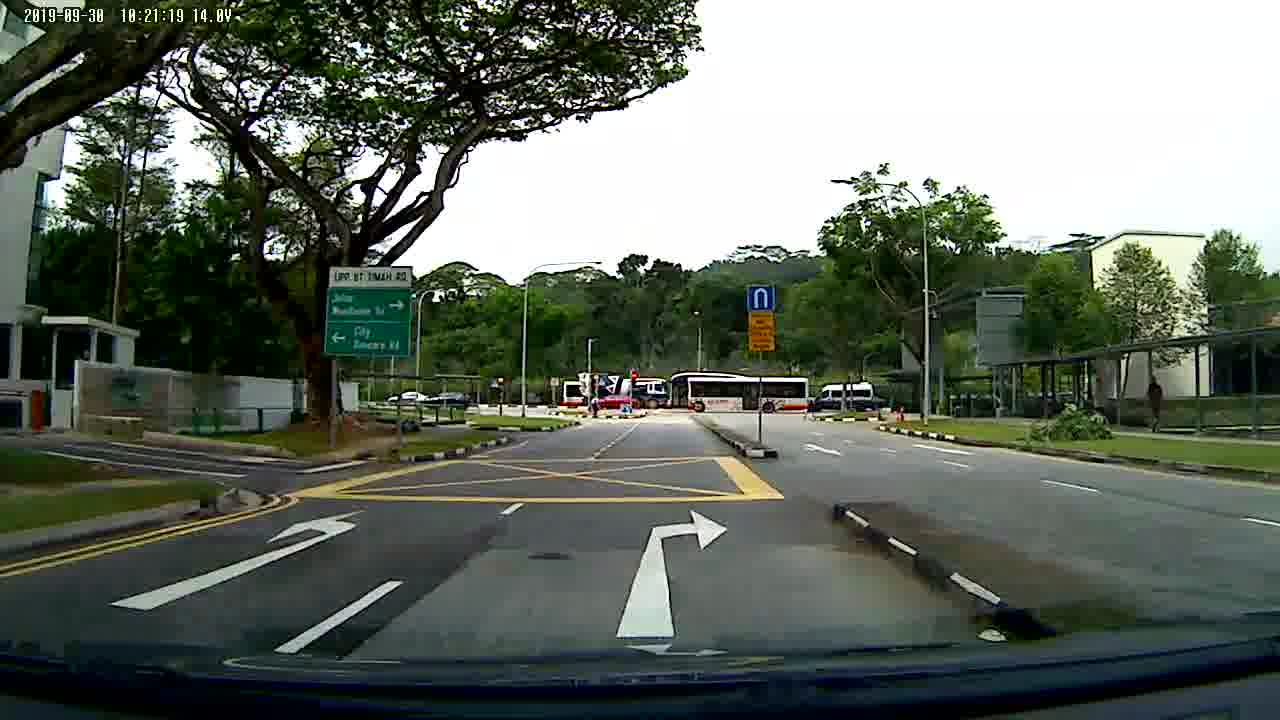bus: (666, 368, 809, 421)
car: (591, 394, 639, 411)
